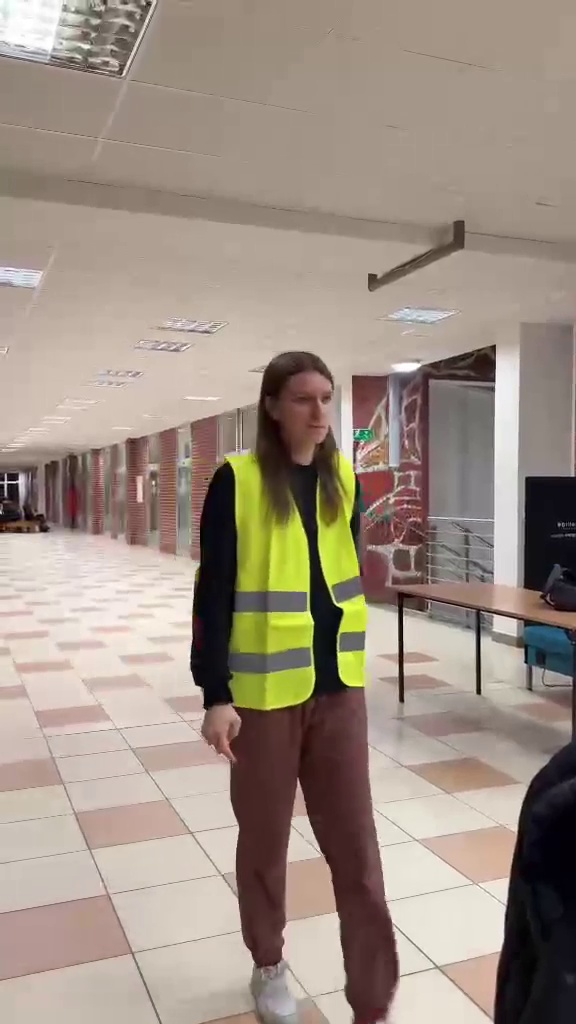vest: (194, 339, 398, 966)
